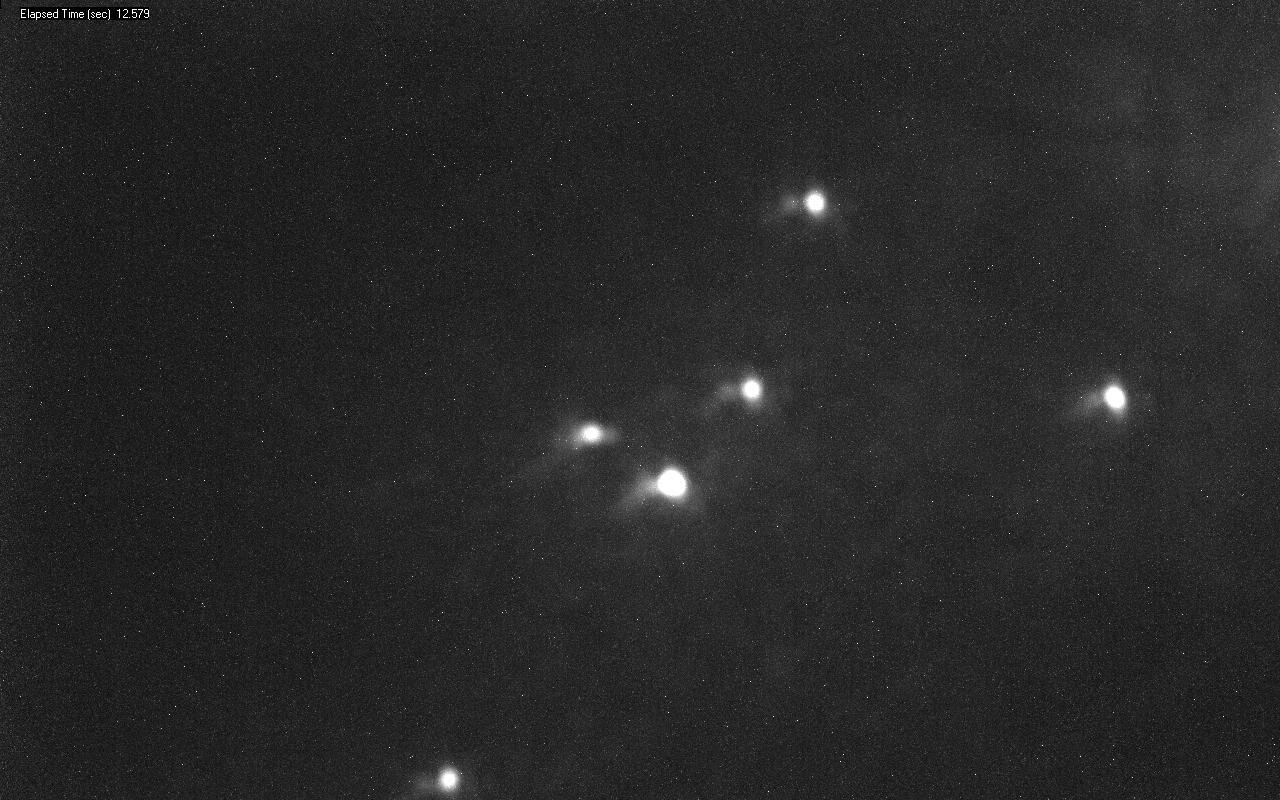Bead: (788, 191, 825, 218), (1102, 385, 1126, 410), (740, 378, 762, 403), (580, 424, 603, 443)
